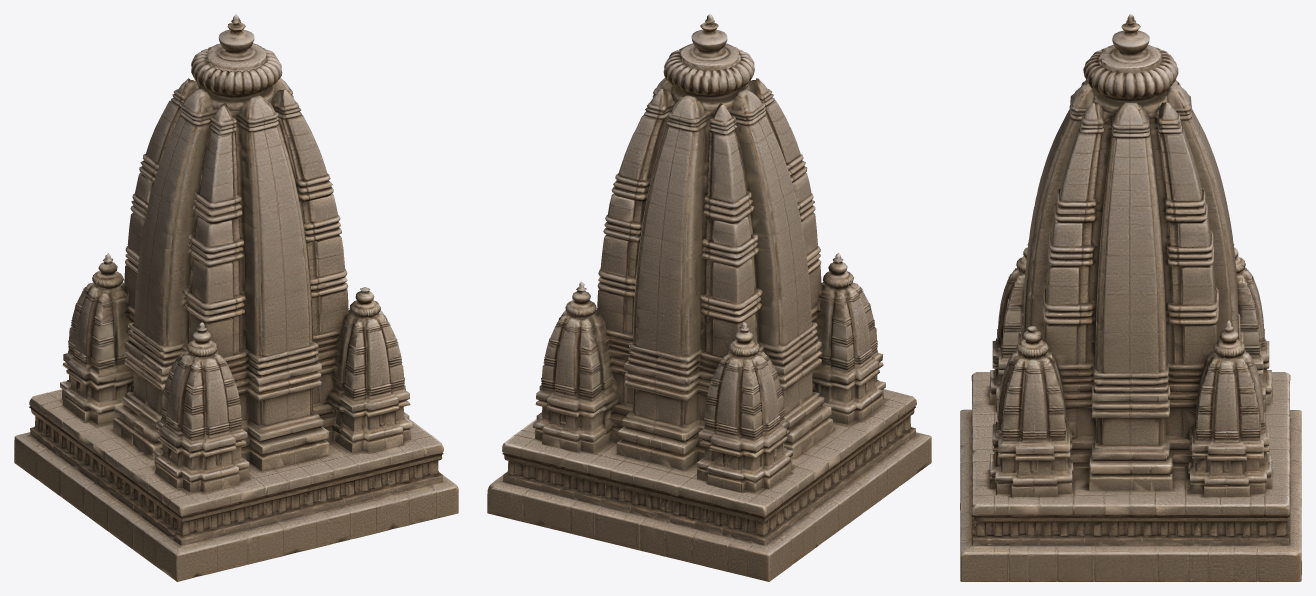
File: shikhara.glb
The picture shows the model from 3 angles, left to right: view 1: azimuth 30°, elevation 25°; view 2: azimuth 150°, elevation 25°; view 3: azimuth 270°, elevation 25°; orthographic projection. The views are drawn at different scales.
Visible parts, largest first — view 1: tripo_node_96b598c0-40f0-40e2-bbd6-7996f852589c; view 2: tripo_node_96b598c0-40f0-40e2-bbd6-7996f852589c; view 3: tripo_node_96b598c0-40f0-40e2-bbd6-7996f852589c.
Part boxes in pixels (x1,y1,x2,y2): tripo_node_96b598c0-40f0-40e2-bbd6-7996f852589c: (14,14,458,581); tripo_node_96b598c0-40f0-40e2-bbd6-7996f852589c: (487,14,931,581); tripo_node_96b598c0-40f0-40e2-bbd6-7996f852589c: (960,14,1301,581).
Bounding box in the file's own units: 0.6123 × 0.981 × 0.6125.
1 material, 1 textured.
